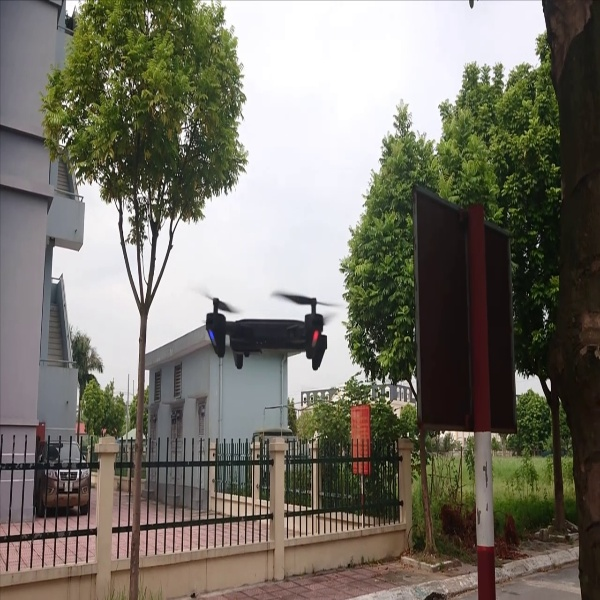drone: (183, 274, 342, 379)
